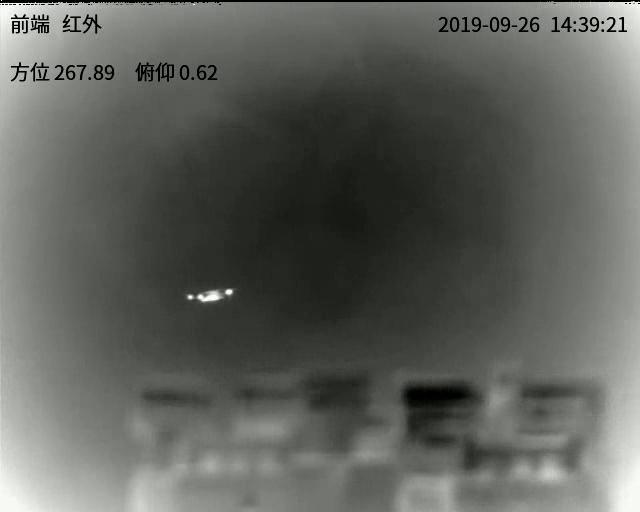DRONE: (184, 287, 236, 304)
